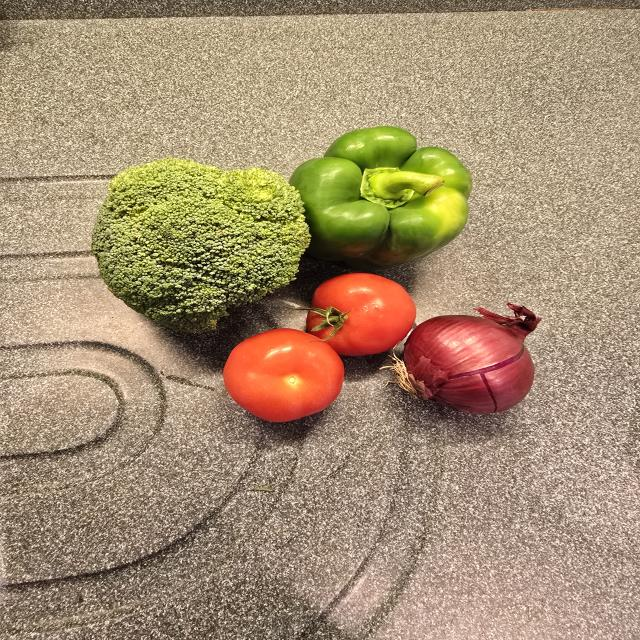Bell Pepper: (290, 126, 472, 271)
Broccoli: (92, 159, 310, 333)
Onion: (403, 304, 541, 413)
Tomato: (223, 328, 344, 422), (306, 273, 416, 356)
